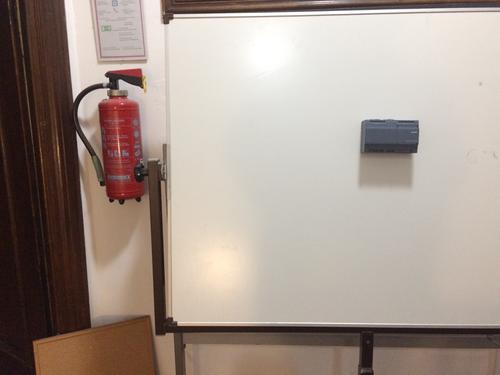iot2000: (359, 117, 420, 154)
